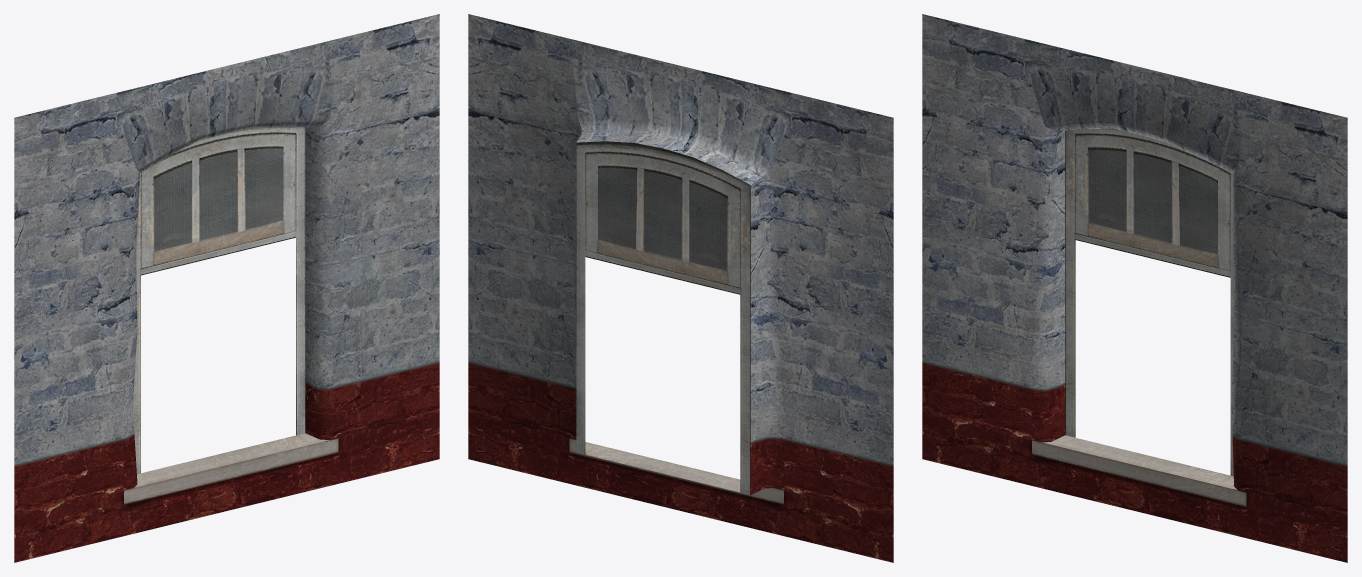
File: factory_corridor_01_open.DAE
The picture shows the model from 3 angles, left to right: view 1: azimuth 30°, elevation 25°; view 2: azimuth 150°, elevation 25°; view 3: azimuth 330°, elevation 25°; orthographic projection.
Parts seen in each view (by area): view 1: Object018, Object019; view 2: Object018, Object019; view 3: Object018, Object019.
Boxes of the visible parts, <box> form: Object018: <box>14,14,439,516</box>; Object019: <box>14,39,439,562</box>; Object018: <box>468,14,893,516</box>; Object019: <box>468,39,893,562</box>; Object018: <box>922,14,1347,516</box>; Object019: <box>922,37,1347,562</box>.
Size of the model in its own units: 4 by 4 by 0.2153.
